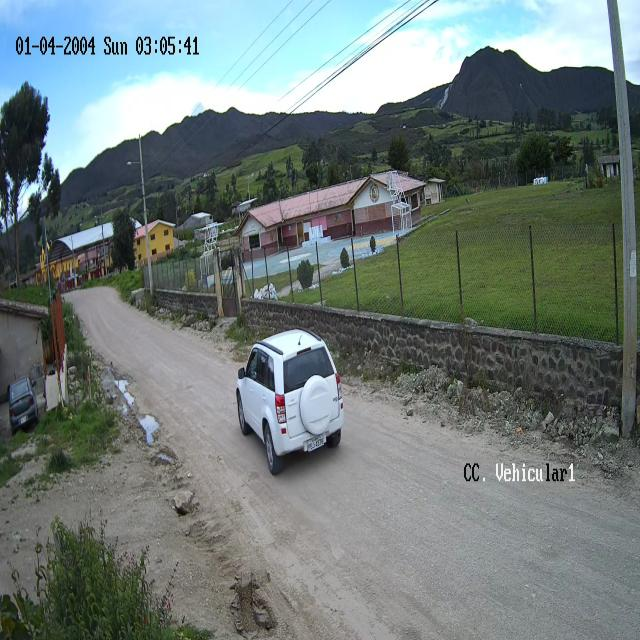SUV: (235, 330, 343, 475)
